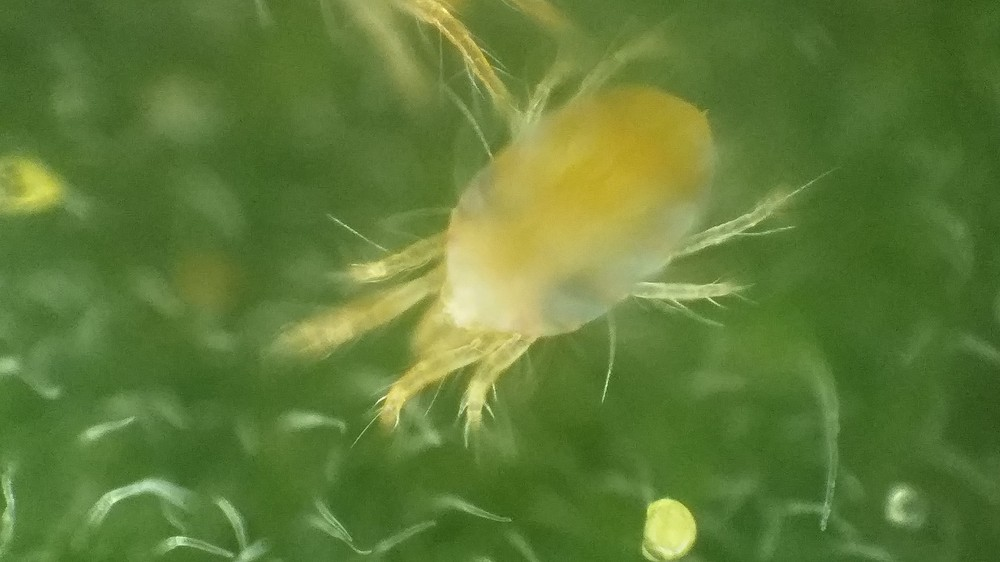Aracnido Rojo: (297, 49, 848, 445)
